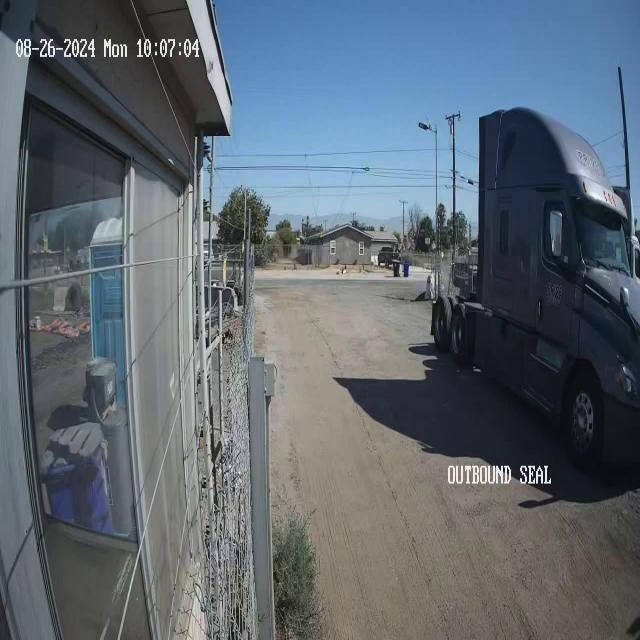TRUCK_IN: (430, 104, 639, 473)
